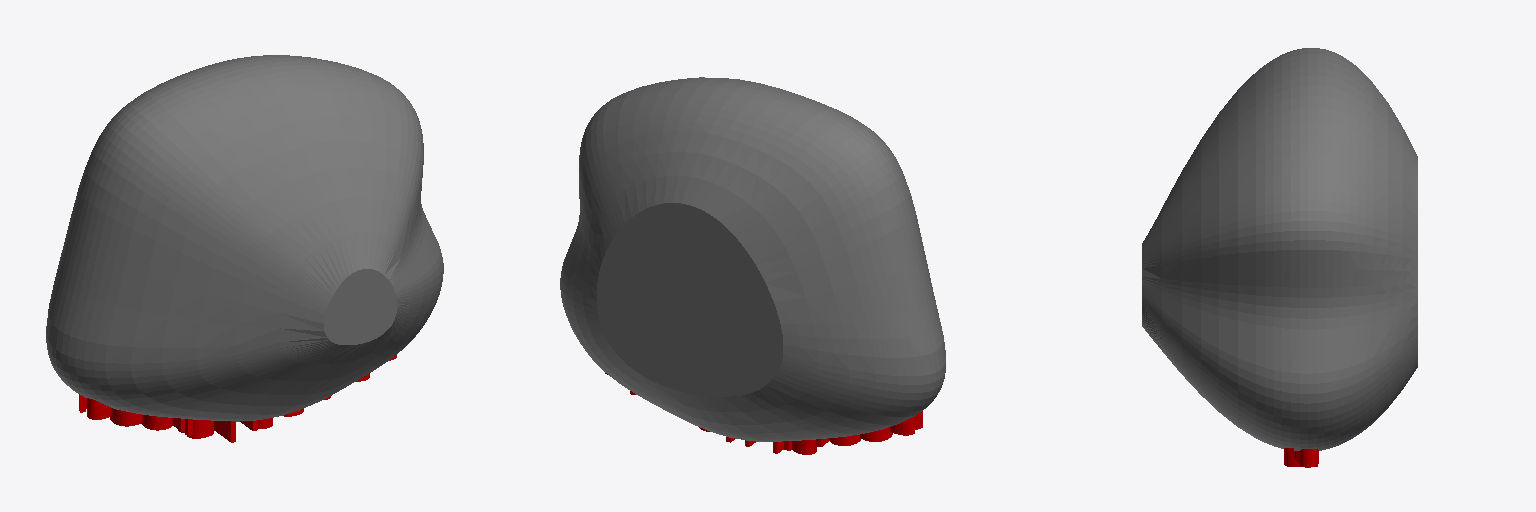
The model's file is trumpRock.obj.
3 renders of one model, left to right at view 1: azimuth 30°, elevation 25°; view 2: azimuth 150°, elevation 25°; view 3: azimuth 270°, elevation 25°, orthographic.
Visible parts, largest first — view 1: object_1, object_9; view 2: object_1; view 3: object_1, object_13.
Part boxes in pixels (x1,y1,x2,y2): object_1: (46,55,443,421); object_9: (79,394,111,419); object_1: (560,77,945,441); object_1: (1142,48,1417,450); object_13: (1284,448,1318,467).
Bounding box in the file's own units: 4.31 × 3.92 × 2.76.